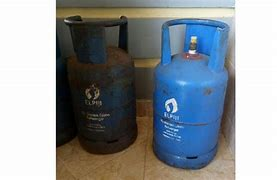blue_gas: (153, 17, 230, 170), (64, 15, 138, 155)
